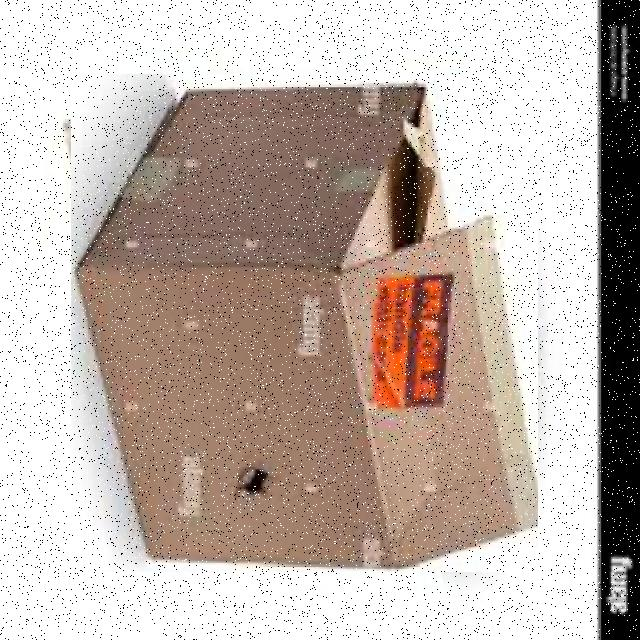defect: (71, 74, 538, 572)
